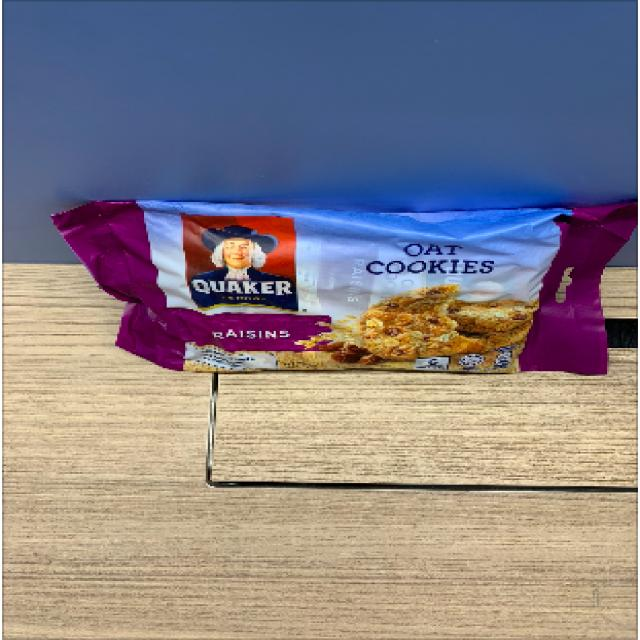object_name: (93, 205, 620, 369)
